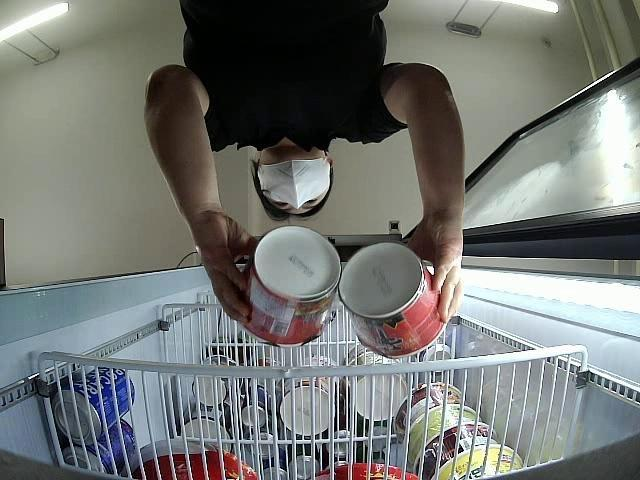01_ShinRamen_L: (339, 241, 446, 360), (237, 226, 342, 347)
